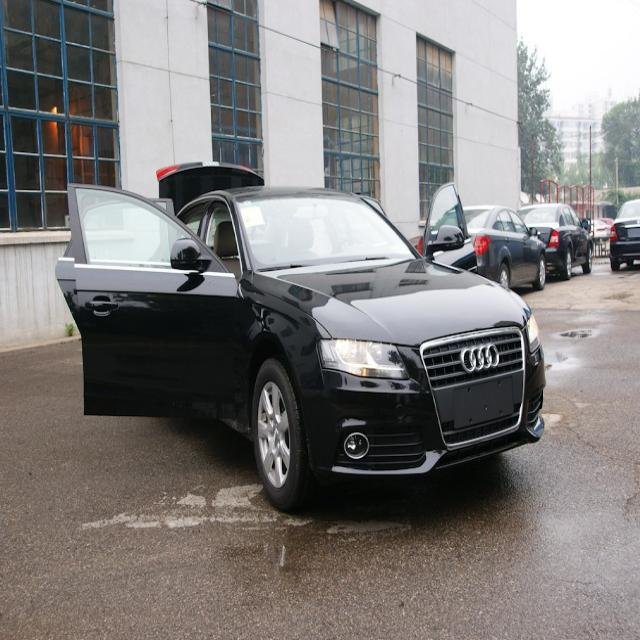front_bumper: (286, 340, 548, 494)
front_glass: (235, 191, 421, 275)
front_left_side_light: (519, 309, 543, 356)
front_right_side_door: (63, 177, 244, 428)
front_right_side_light: (316, 331, 412, 384)
front_right_side_mirror: (169, 234, 212, 276)
wheel: (252, 360, 316, 511)
